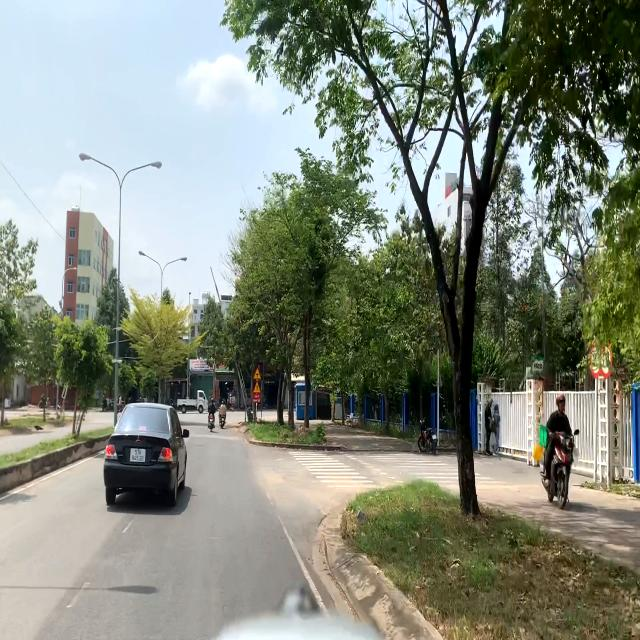W.205d: (252, 367, 262, 380)
W.224: (252, 381, 262, 394)
